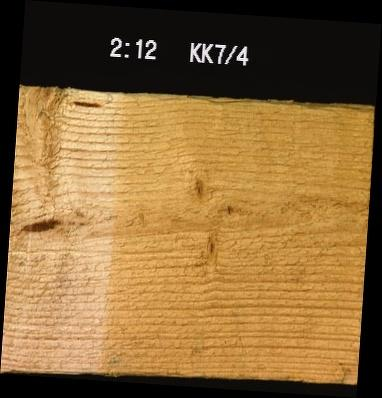sound_knot: (197, 226, 222, 268), (187, 169, 211, 204)
